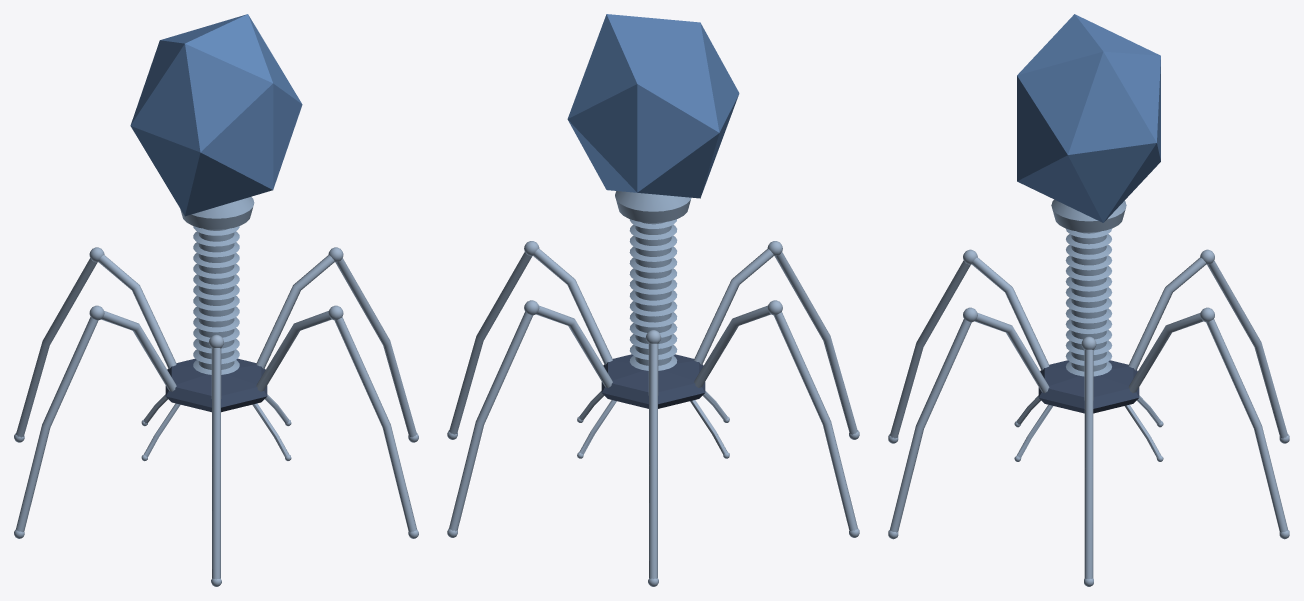
File: bacteriophage.glb
3 views of the same model, side by side, from view 1: azimuth 30°, elevation 25°; view 2: azimuth 150°, elevation 25°; view 3: azimuth 270°, elevation 25° (orthographic). The views are drawn at different scales.
Visible parts, largest first — view 1: Bacteriophage; view 2: Bacteriophage; view 3: Bacteriophage.
Boxes of the visible parts, box(x1,y1,x2,y2) form: Bacteriophage: box(14, 14, 418, 586); Bacteriophage: box(447, 14, 859, 586); Bacteriophage: box(888, 14, 1289, 586).
Size of the model in its own units: 0.6756 by 0.7382 by 0.5864.
